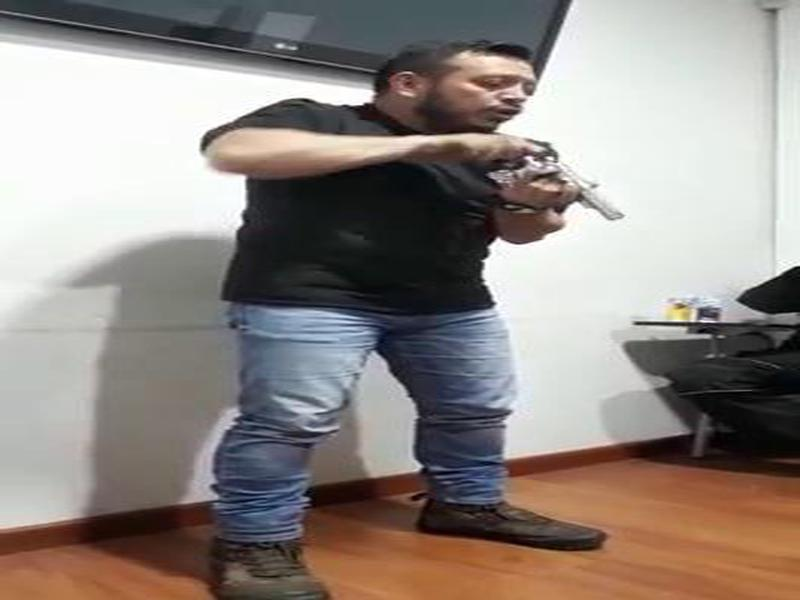Revolver: (467, 134, 634, 236)
